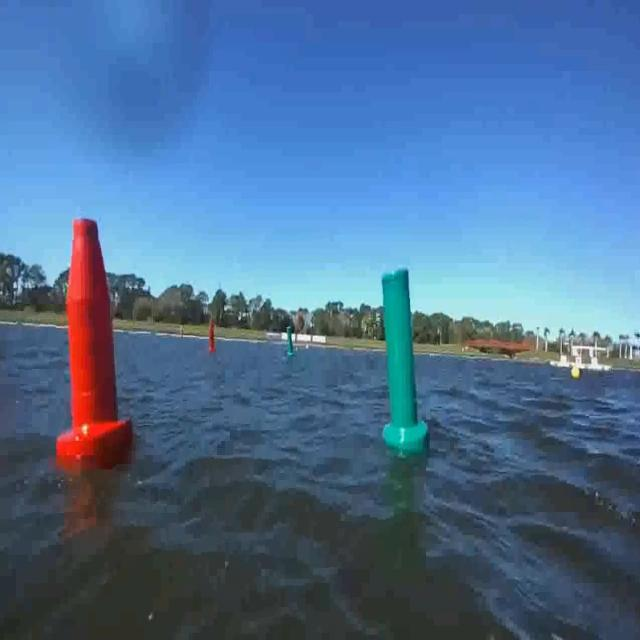green-column-buoy: (379, 265, 425, 451), (286, 326, 296, 356)
red-column-buoy: (57, 215, 133, 469), (208, 323, 217, 355)
yellow-buoy: (571, 364, 580, 381)
